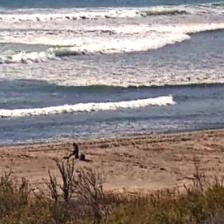surfer: (116, 0, 123, 2)
